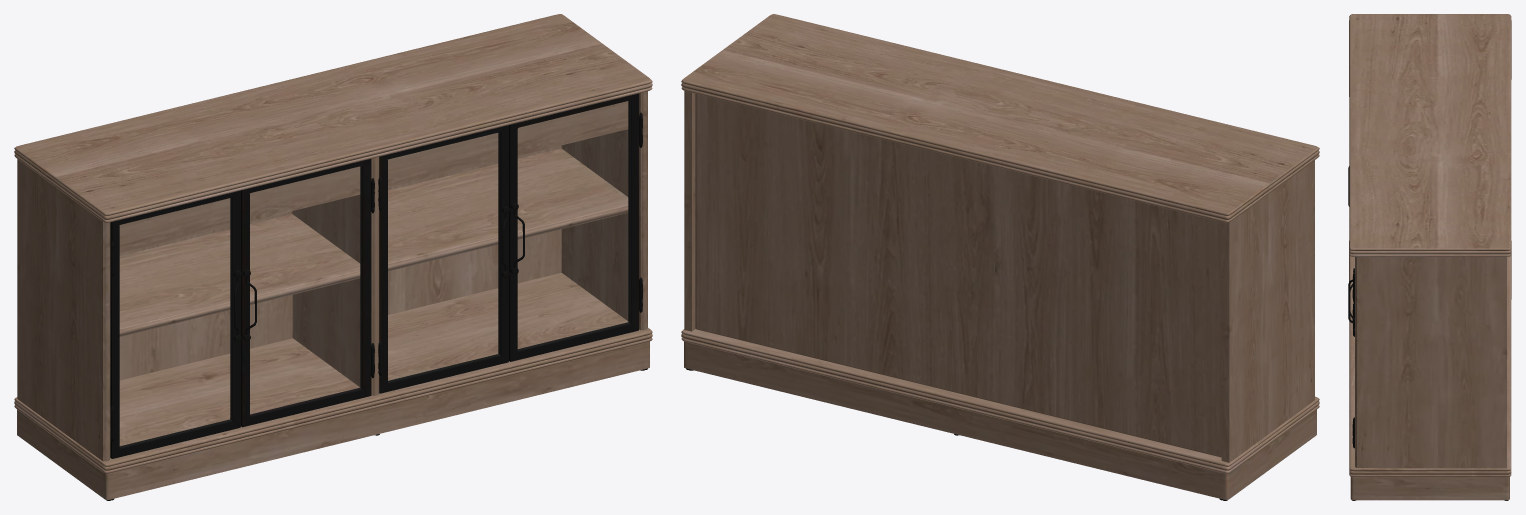
The picture shows the model from 3 angles, left to right: view 1: azimuth 30°, elevation 25°; view 2: azimuth 150°, elevation 25°; view 3: azimuth 270°, elevation 25°; orthographic projection. The views are drawn at different scales.
Visible parts, largest first — view 1: 90466546_sideboard:1.001; view 2: 90466546_sideboard:1.001; view 3: 90466546_sideboard:1.001.
Boxes of the visible parts, x1=… form: 90466546_sideboard:1.001: x1=14, y1=14, x2=652, y2=500; 90466546_sideboard:1.001: x1=681, y1=14, x2=1319, y2=500; 90466546_sideboard:1.001: x1=1348, y1=14, x2=1511, y2=500.
Bounding box in the file's own units: 1.61 × 0.8101 × 0.4719.
Materials: 2 (1 with a texture image).
